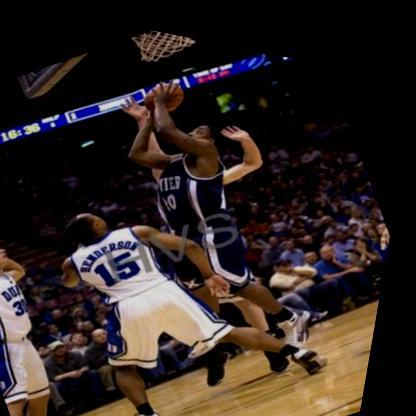basketball: (138, 65, 193, 116)
